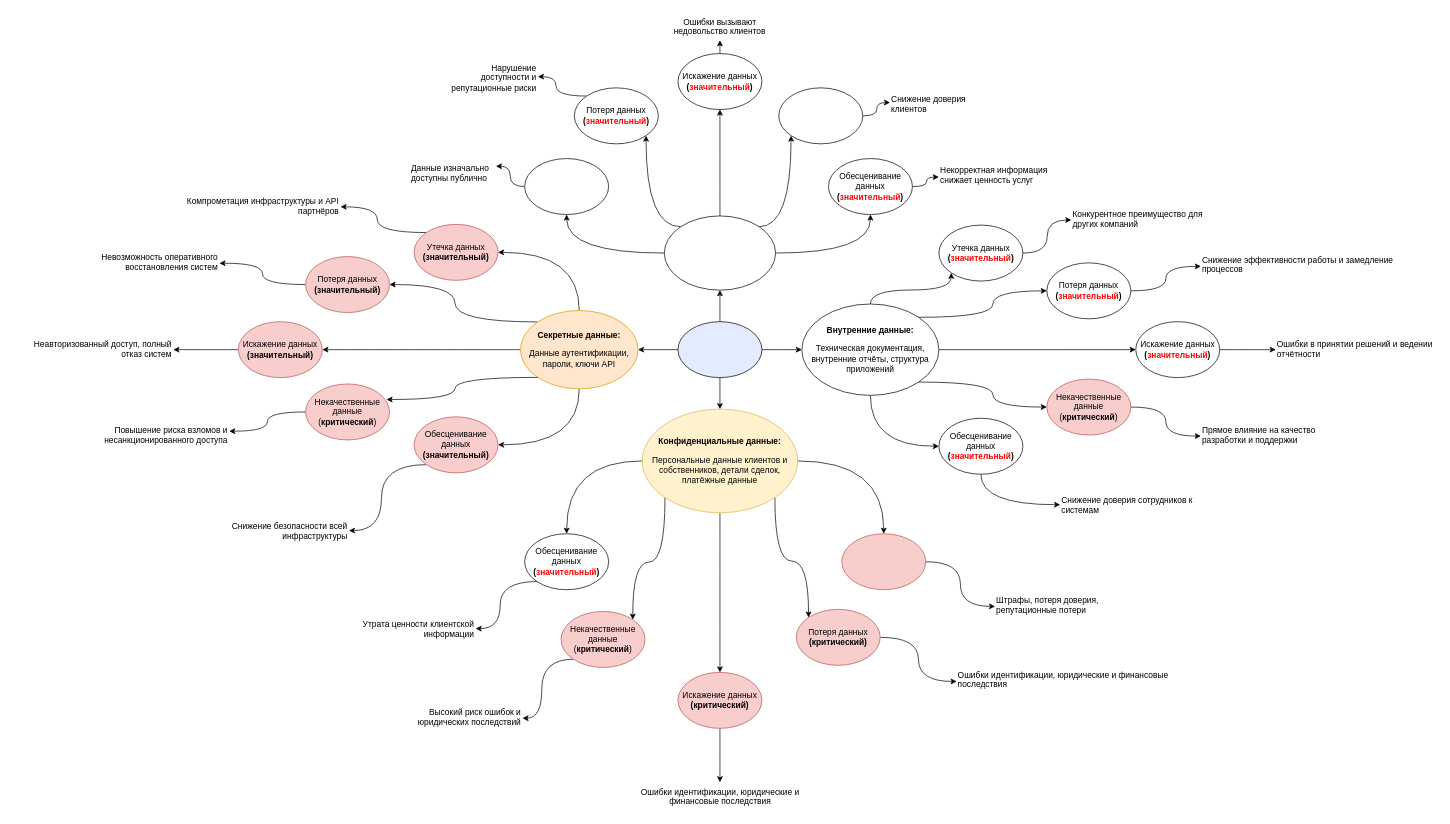
Image size: 1450x824. Some labels were removed from this diagram. Each missing label, with the centre of its shape:
"Безопасность данных" belongs at pixel 719 349.
"Некачественные данные ( значительный )" belongs at pixel 820 115.
"Публичные данные: Каталог недвижимости, описание услуг, цены" belongs at pixel 720 252.
"Утечка данных ( критический )" belongs at pixel 883 561.
"Утечка данных (незначительный)" belongs at pixel 566 186.
